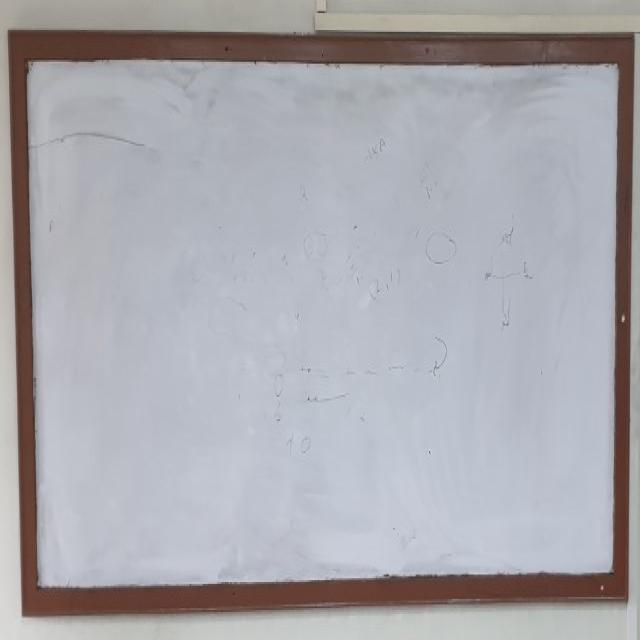White-board: (19, 47, 626, 603)
